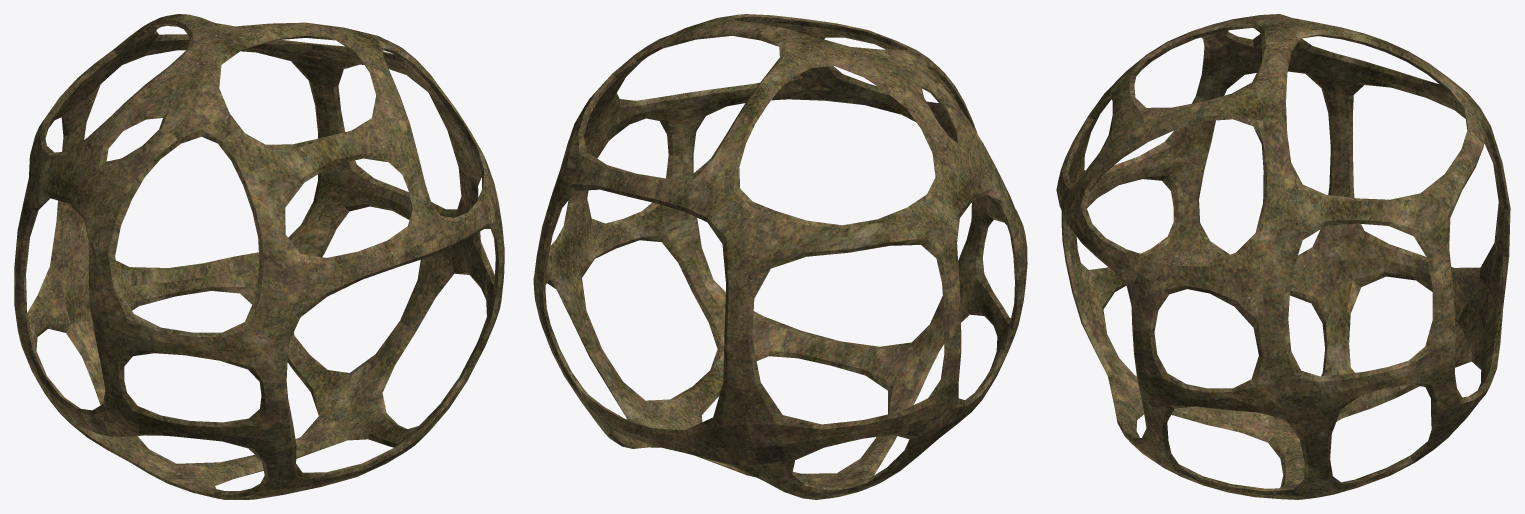
File: destructibleMeteorite.obj
The picture shows the model from 3 angles, left to right: view 1: azimuth 30°, elevation 25°; view 2: azimuth 150°, elevation 25°; view 3: azimuth 270°, elevation 25°; orthographic projection. The views are drawn at different scales.
Visible parts, largest first — view 1: hole, hole_hole2; view 2: hole, hole_hole2; view 3: hole, hole_hole2.
Part boxes in pixels (<box>): hole: <box>14,14,504,499</box>; hole_hole2: <box>23,23,498,494</box>; hole: <box>533,14,1027,499</box>; hole_hole2: <box>543,16,1017,490</box>; hole: <box>1056,14,1510,499</box>; hole_hole2: <box>1063,26,1508,491</box>.
Bounding box in the file's own units: 0.8562 × 0.862 × 0.8186.
1 material, 1 textured.
